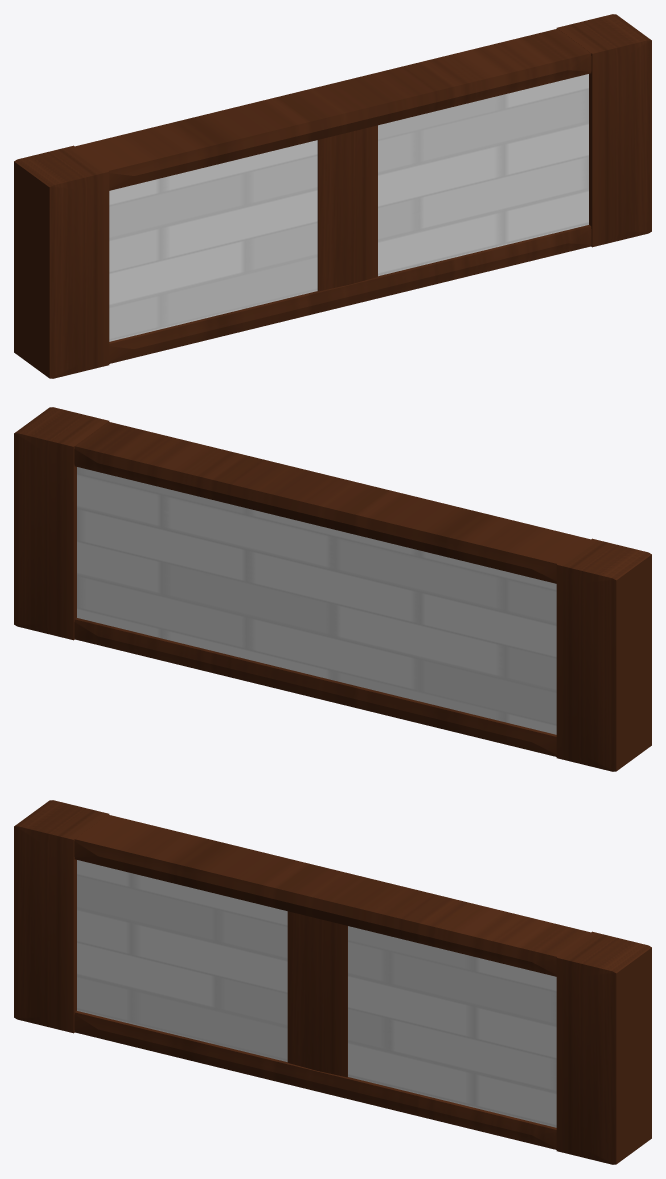
File: Half_Half_Wall_Var2_Brick.fbx
3 renders of one model, top to bottom at view 1: azimuth 30°, elevation 25°; view 2: azimuth 150°, elevation 25°; view 3: azimuth 330°, elevation 25°, orthographic.
Parts seen in each view (by area): view 1: Half_Half_Wall_Var2; view 2: Half_Half_Wall_Var2; view 3: Half_Half_Wall_Var2.
Part boxes in pixels (x1=…): Half_Half_Wall_Var2: x1=14, y1=14, x2=651, y2=378; Half_Half_Wall_Var2: x1=14, y1=407, x2=651, y2=771; Half_Half_Wall_Var2: x1=14, y1=800, x2=651, y2=1164.
Size of the model in its own units: 212 by 64.99 by 23.4.
